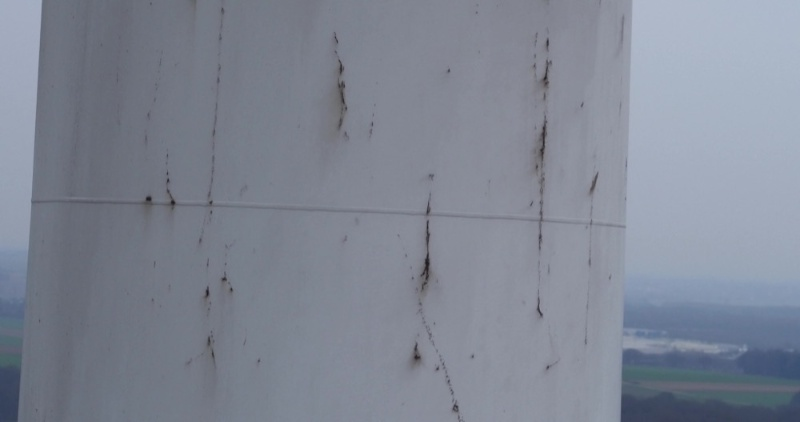weldseam: (26, 194, 631, 233)
